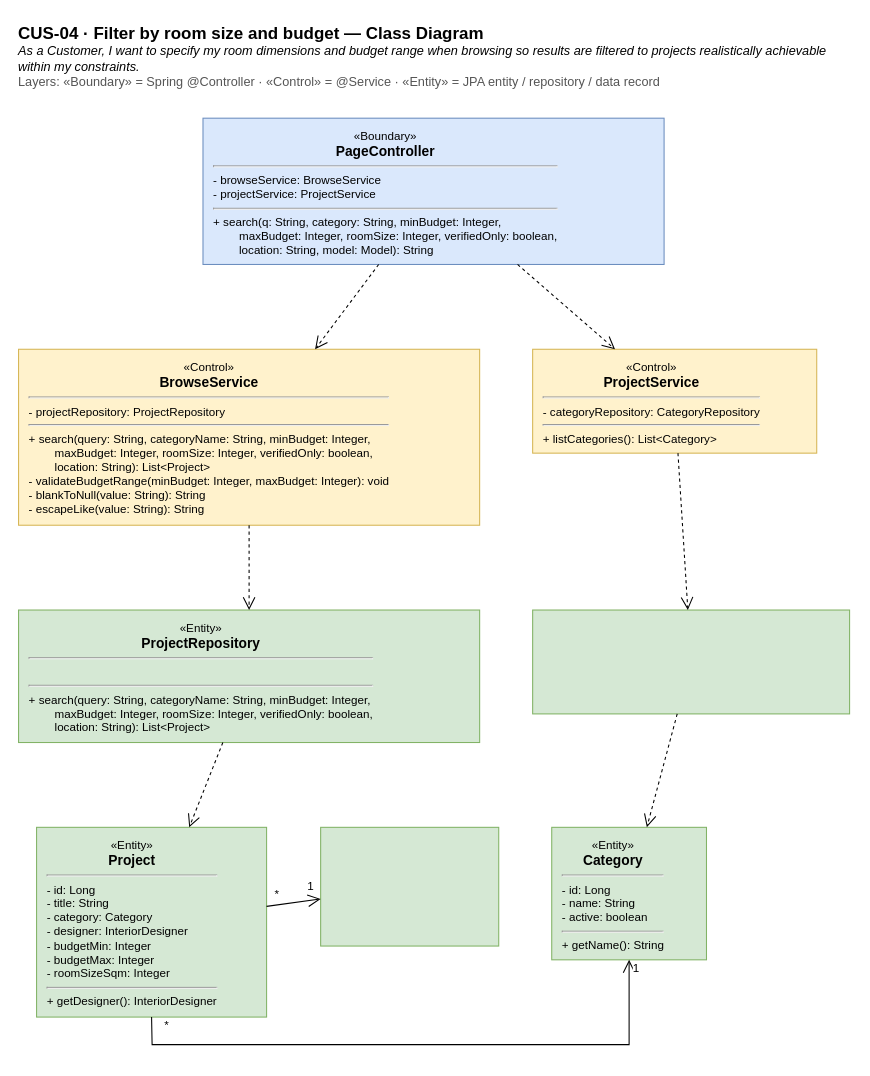
The diagram is 870 pixels wide and 1076 high, and some of its shapes have lost their labels. Each missing label, with the centre of its shape:
«Entity» CategoryRepository + findByActiveTrue(sort: Sort): List<Category>: pixel 691 661
«Entity» InteriorDesigner - company: Company - status: AccountStatus: pixel 409 886
